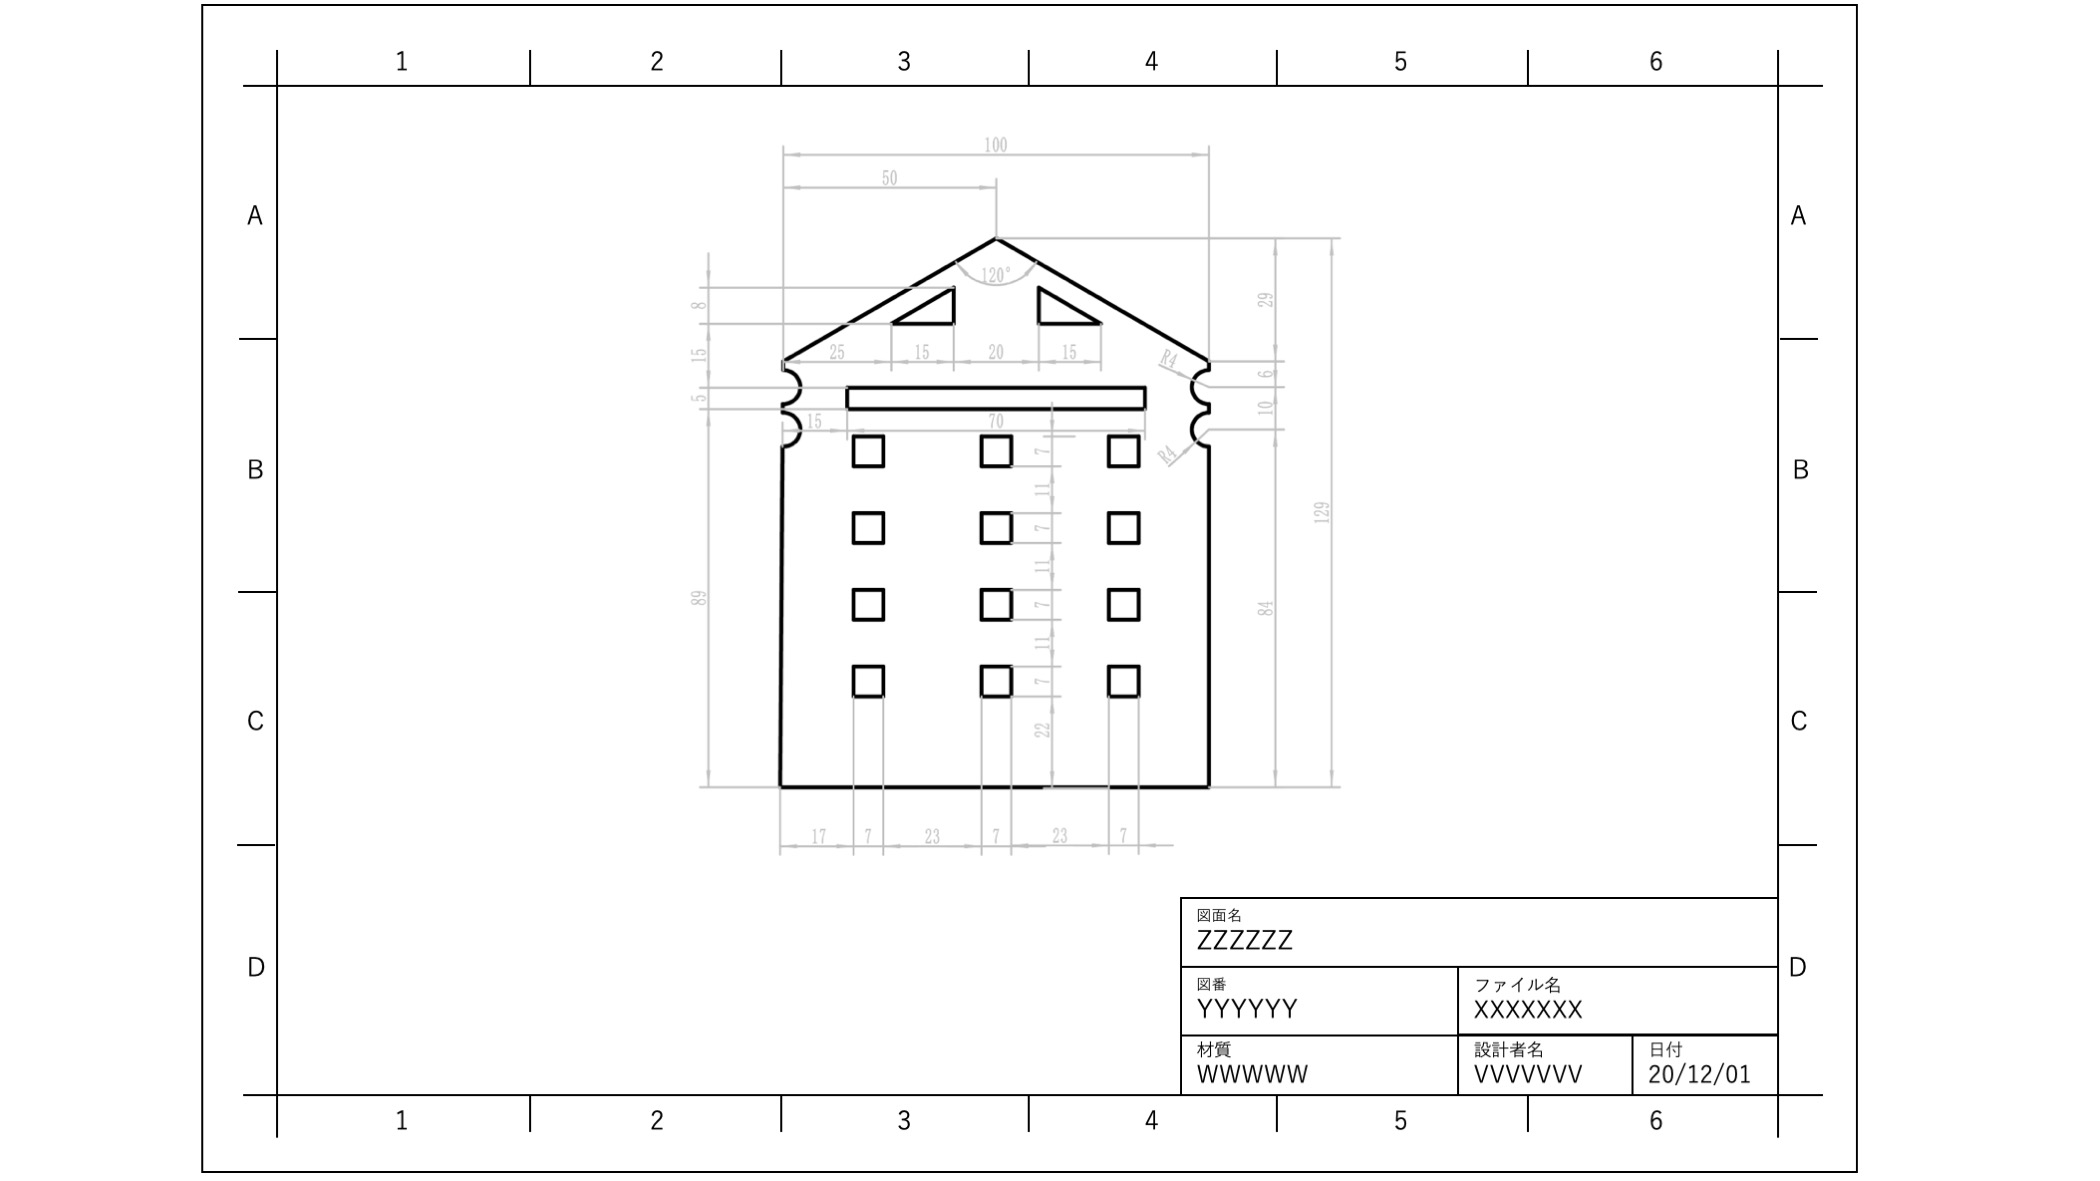rectangle: (831, 373, 1150, 421), (835, 574, 899, 632), (841, 503, 897, 552), (835, 430, 896, 474), (966, 575, 1015, 630), (1098, 497, 1144, 552), (848, 655, 891, 712), (971, 500, 1021, 549), (974, 423, 1021, 474), (1105, 581, 1150, 632), (1099, 658, 1147, 704), (974, 655, 1017, 704), (1100, 433, 1144, 470)
triangle: (1021, 275, 1112, 336), (891, 275, 962, 336)
